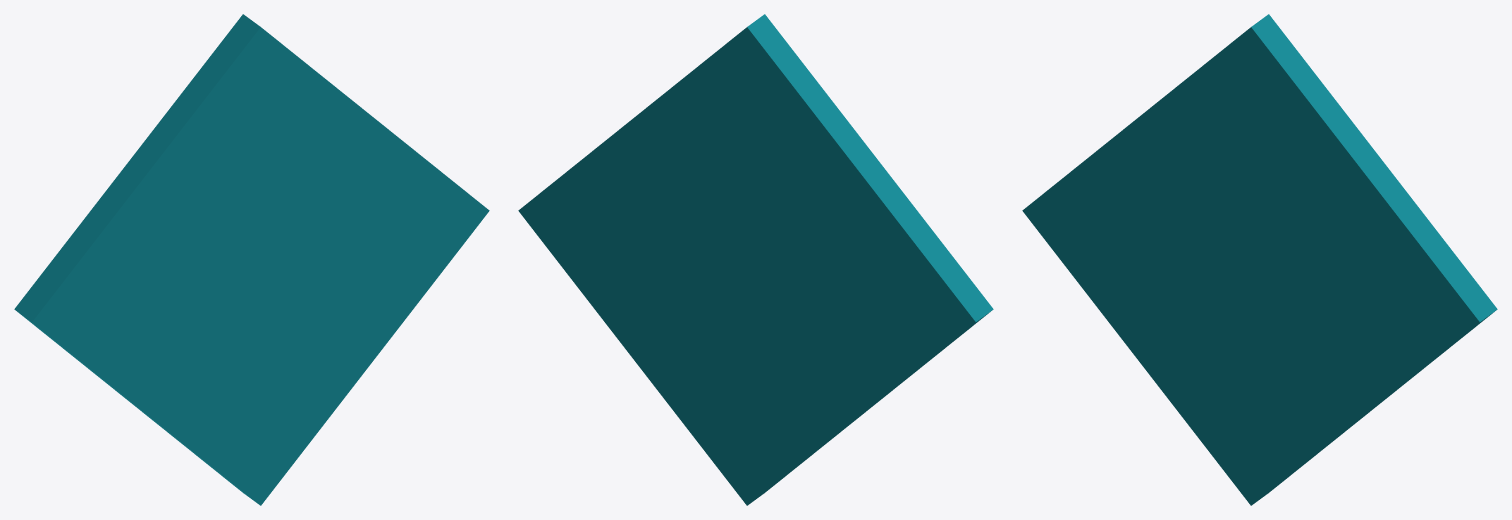
Rendered from teleporter_trigger.fbx.
3 views of the same model, side by side, from view 1: azimuth 30°, elevation 25°; view 2: azimuth 150°, elevation 25°; view 3: azimuth 330°, elevation 25° (orthographic).
Parts seen in each view (by area): view 1: Teleporter_Trigger; view 2: Teleporter_Trigger; view 3: Teleporter_Trigger.
Part boxes in pixels (<box>): Teleporter_Trigger: <box>14,14,489,505</box>; Teleporter_Trigger: <box>518,14,993,505</box>; Teleporter_Trigger: <box>1022,14,1497,505</box>.
Bounding box in the file's own units: 2034 × 2034 × 137.
